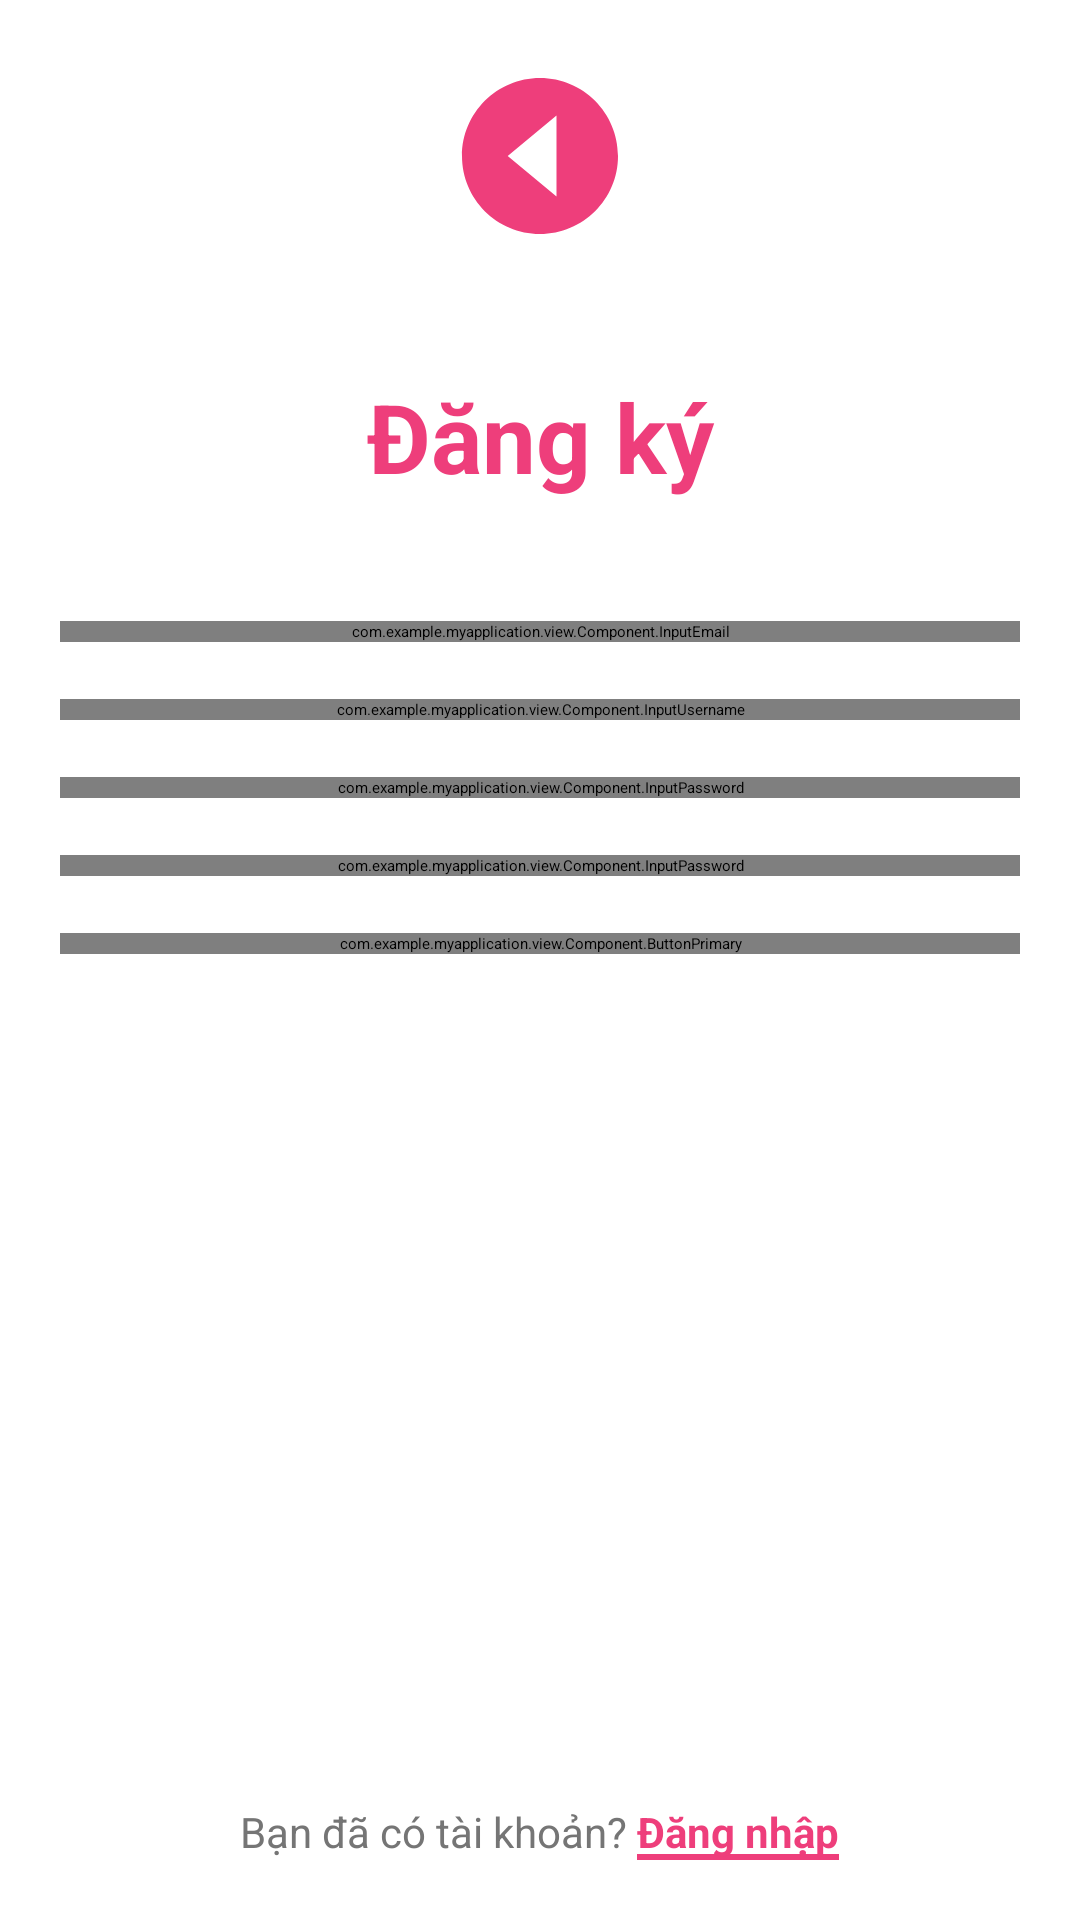

Screen size 1080x1920. Icon name, then its center in pixels as (x=x, y=y):
back: (x=540, y=156)
